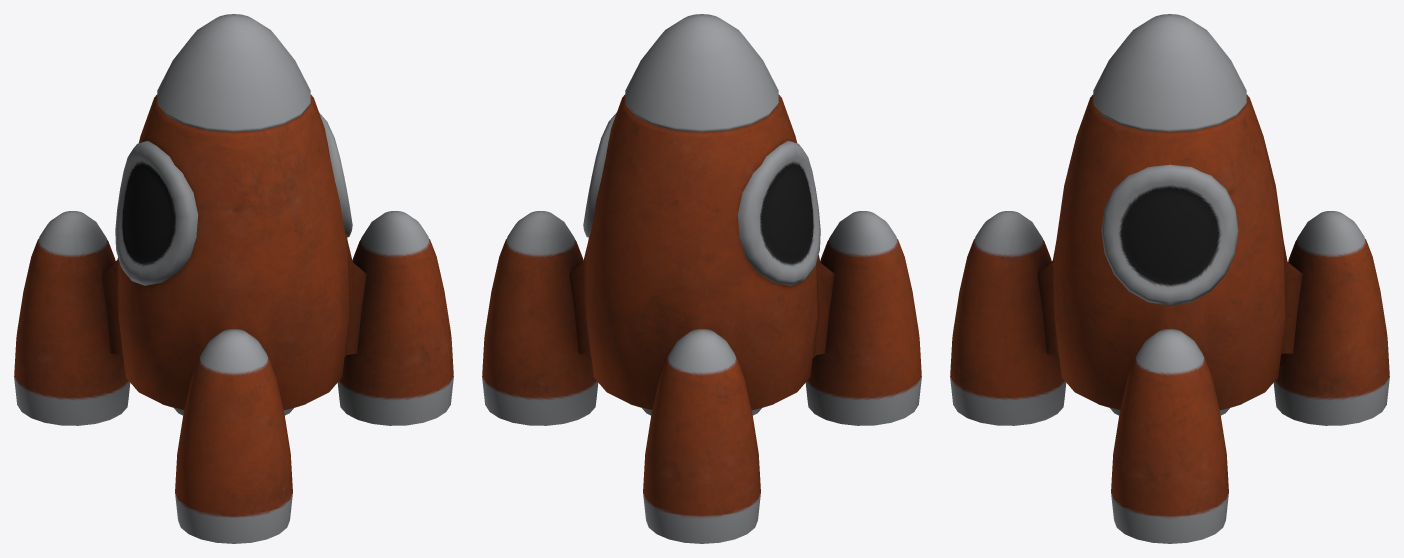
The model's file is Rocket Toy 1.fbx.
3 renders of one model, left to right at view 1: azimuth 30°, elevation 25°; view 2: azimuth 150°, elevation 25°; view 3: azimuth 270°, elevation 25°, orthographic.
Visible parts, largest first — view 1: Rocket_Toy_1; view 2: Rocket_Toy_1; view 3: Rocket_Toy_1.
Boxes of the visible parts, <box> form: Rocket_Toy_1: <box>14,14,453,543</box>; Rocket_Toy_1: <box>482,14,921,543</box>; Rocket_Toy_1: <box>950,14,1389,543</box>.
Size of the model in its own units: 11.67 by 14.08 by 12.93.
Materials: 1 (1 with a texture image).
